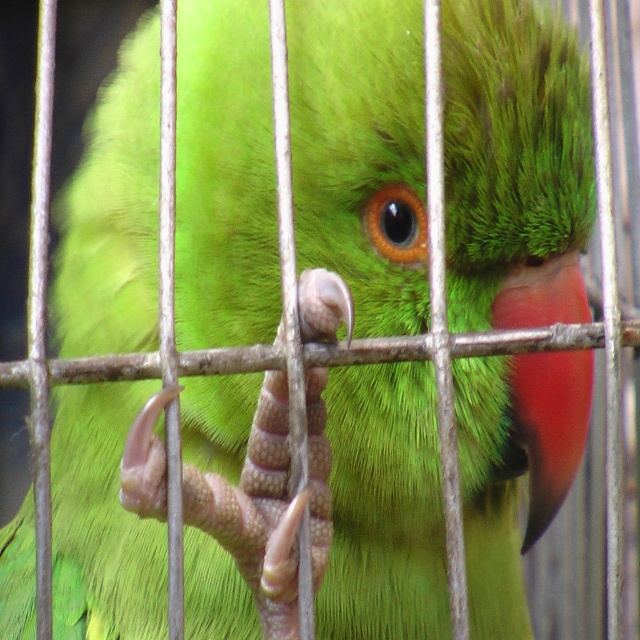Parrot: (0, 0, 602, 639)
